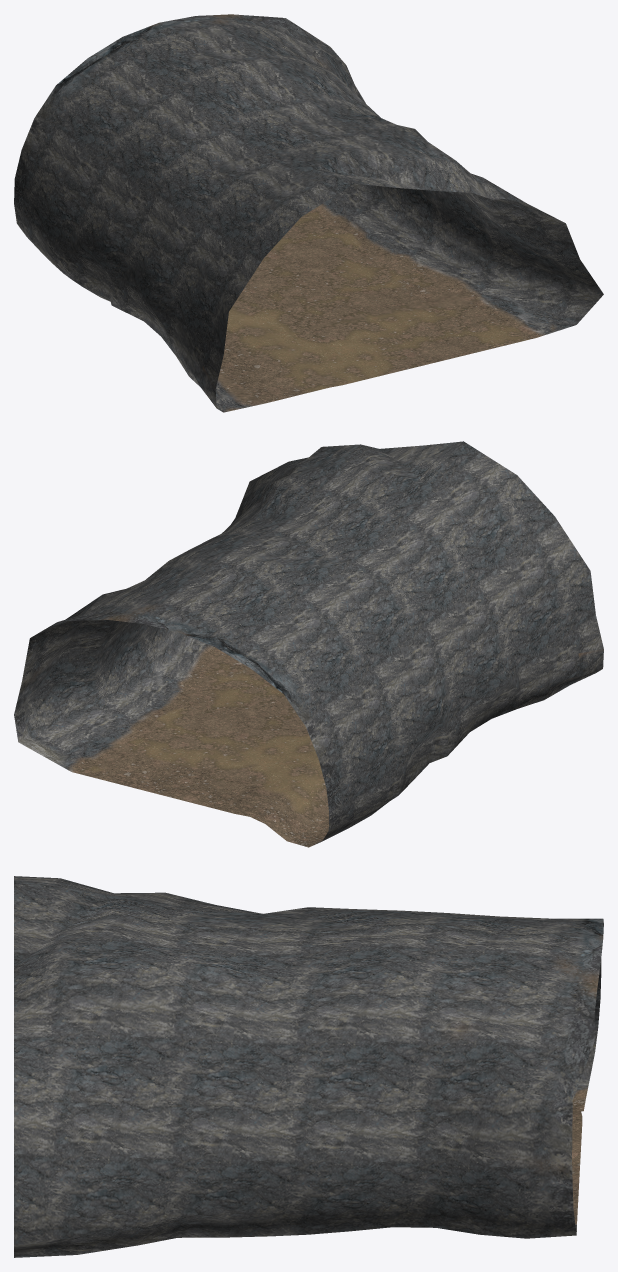
File: piece.obj
3 renders of one model, top to bottom at view 1: azimuth 30°, elevation 25°; view 2: azimuth 150°, elevation 25°; view 3: azimuth 270°, elevation 25°, orthographic. The views are drawn at different scales.
Visible parts, largest first — view 1: TunnelA1; view 2: TunnelA1; view 3: TunnelA1.
Boxes of the visible parts, box(x1,y1,x2,y2) form: TunnelA1: box(14, 14, 603, 412); TunnelA1: box(14, 441, 603, 847); TunnelA1: box(14, 876, 603, 1257).
Size of the model in its own units: 4.88 by 2.55 by 5.21.
Materials: 1 (1 with a texture image).
